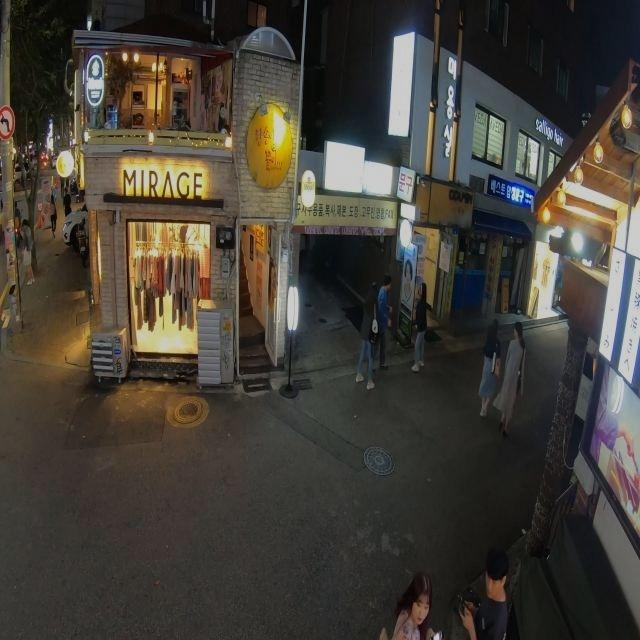non-fight: (502, 321, 526, 431), (479, 318, 498, 417), (355, 285, 373, 388), (375, 278, 392, 372), (410, 283, 425, 371)
